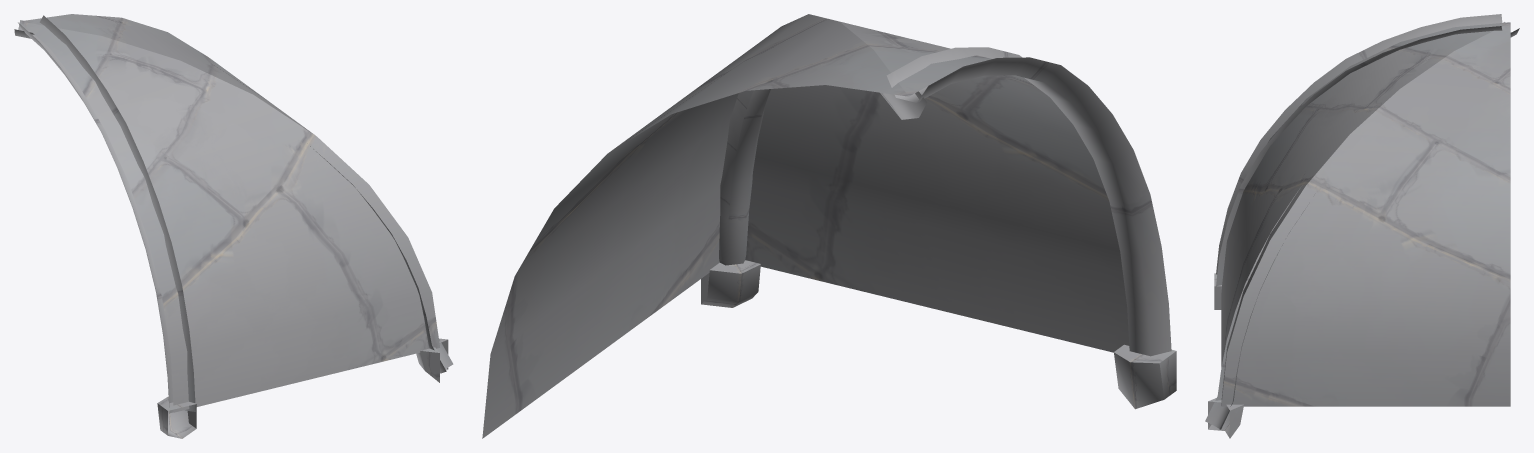
File: SM_CeilingCorner4m.fbx
3 renders of one model, left to right at view 1: azimuth 30°, elevation 25°; view 2: azimuth 150°, elevation 25°; view 3: azimuth 270°, elevation 25°, orthographic. The views are drawn at different scales.
Visible parts, largest first — view 1: SM_CeilingCorner4m; view 2: SM_CeilingCorner4m; view 3: SM_CeilingCorner4m.
Part boxes in pixels (x1,y1,x2,y2): SM_CeilingCorner4m: (14, 14, 453, 438); SM_CeilingCorner4m: (482, 14, 1176, 438); SM_CeilingCorner4m: (1205, 14, 1519, 438).
Size of the model in its own units: 4.34 by 4.48 by 4.35.
